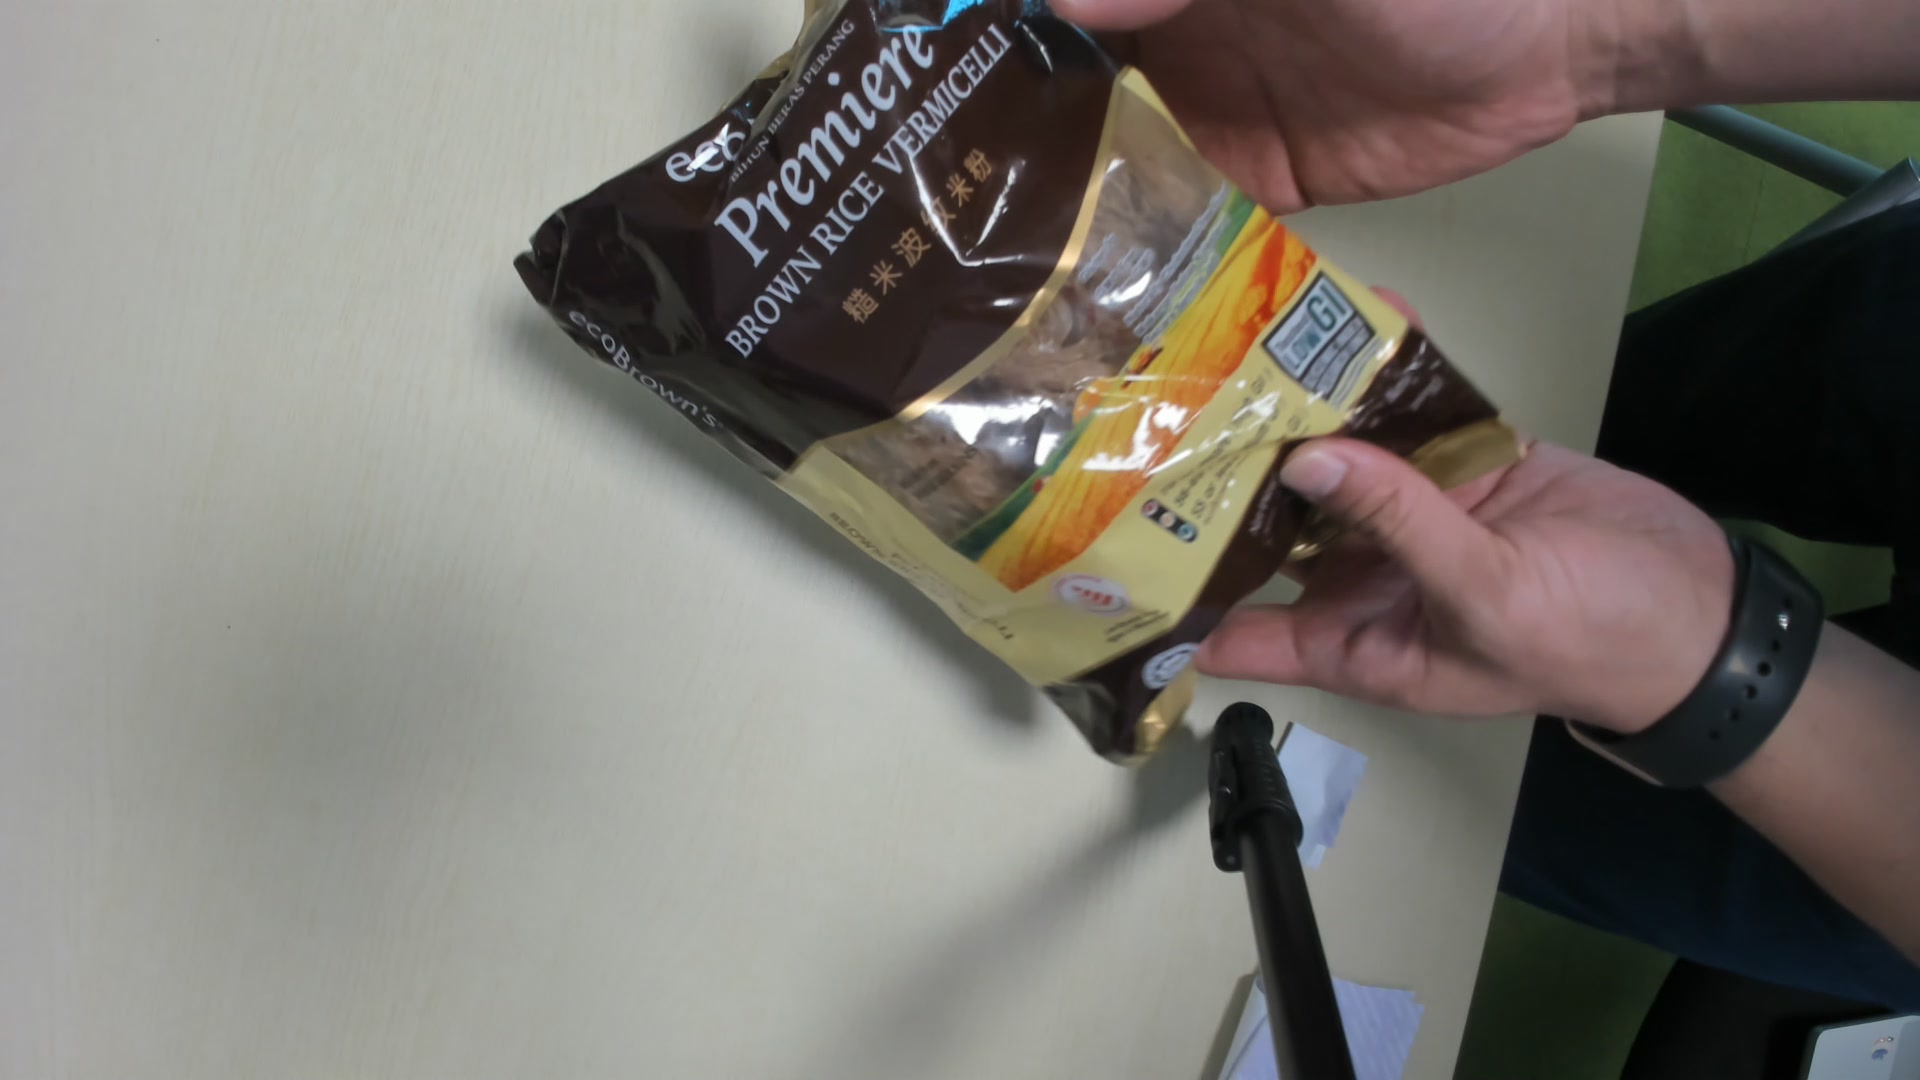BeeHoonVermicelli_300-399g_Halal_Healthy: (506, 7, 1523, 750)
